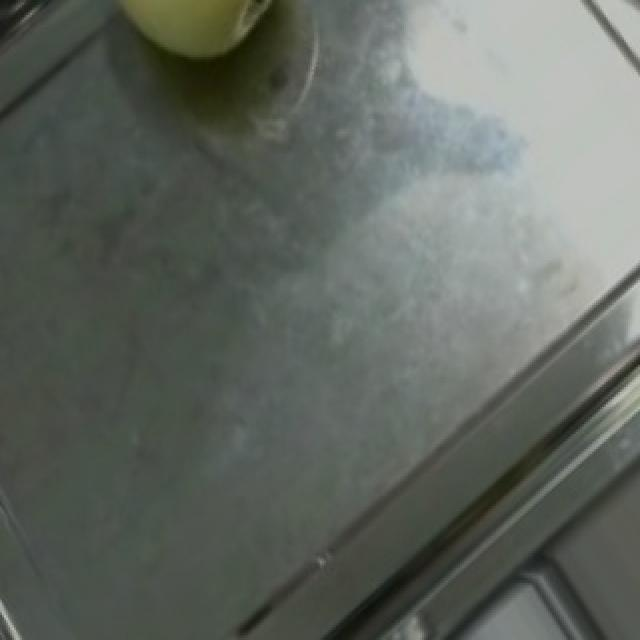Fruit: (72, 0, 310, 92)
